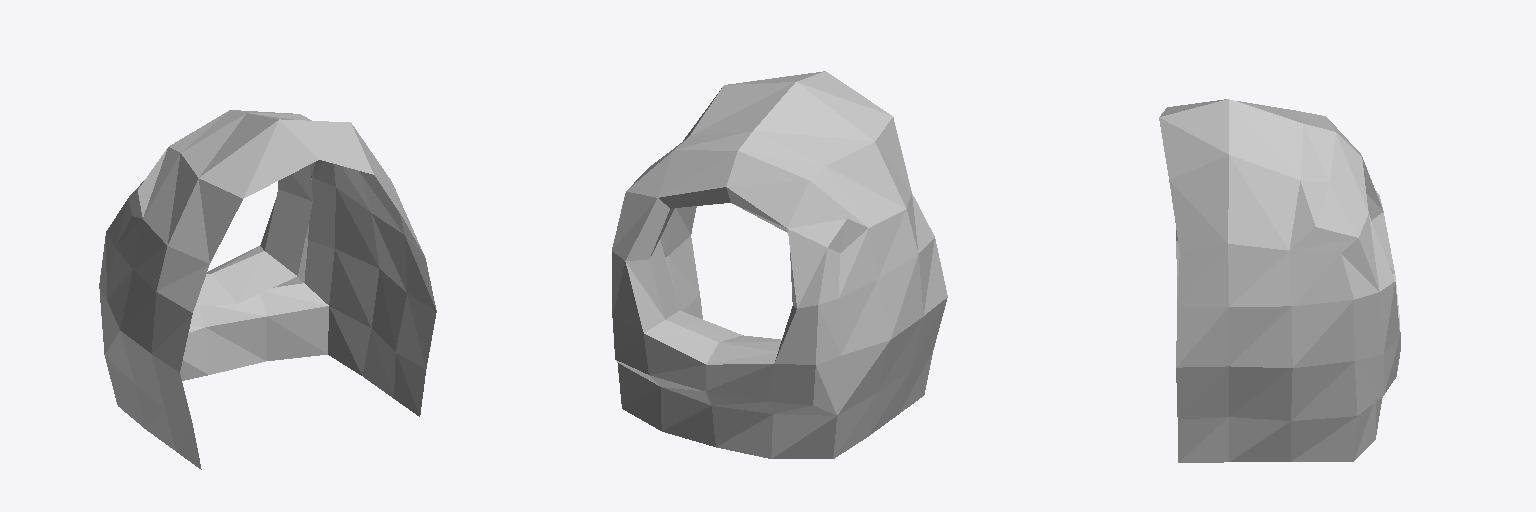
Rendered from cavespCube1.OBJ.
3 renders of one model, left to right at view 1: azimuth 30°, elevation 25°; view 2: azimuth 150°, elevation 25°; view 3: azimuth 270°, elevation 25°, orthographic.
Parts seen in each view (by area): view 1: ZBrush_defualt_group; view 2: ZBrush_defualt_group; view 3: ZBrush_defualt_group.
Boxes of the visible parts, x1,y1,x2,y2 form: ZBrush_defualt_group: [99, 110, 436, 469]; ZBrush_defualt_group: [612, 71, 947, 458]; ZBrush_defualt_group: [1159, 99, 1400, 462].
Size of the model in its own units: 110 by 126 by 88.55.